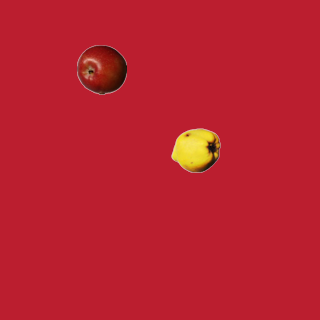Apple Braeburn: (76, 44, 126, 94)
Quince: (170, 125, 220, 175)
